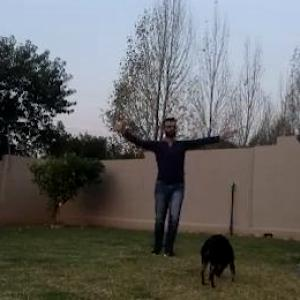takeoff: (117, 97, 249, 265)
